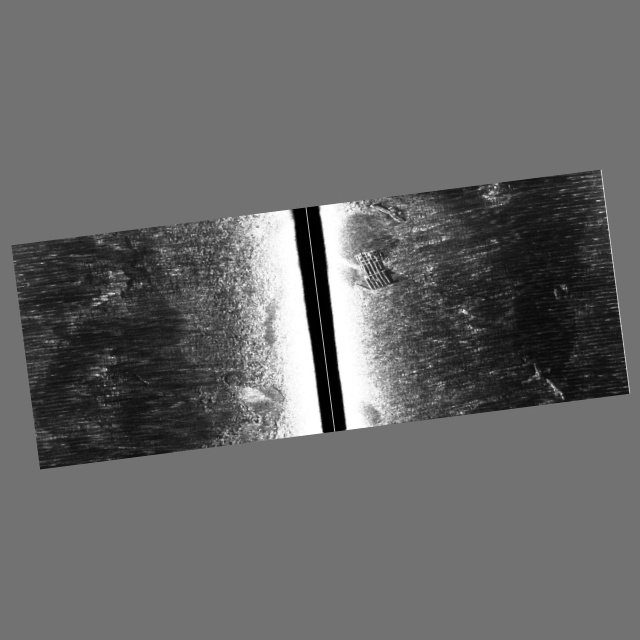Shipwreck: (346, 179, 584, 425)
